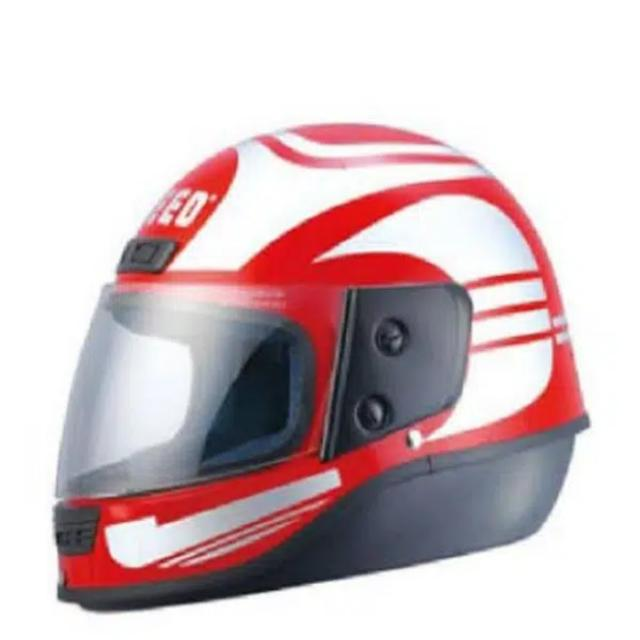Helmet: (62, 105, 598, 637)
